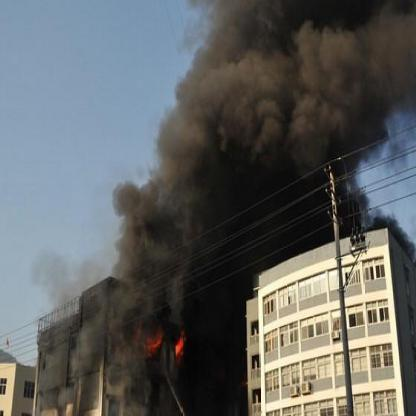smoke: (164, 5, 414, 158), (113, 160, 202, 274), (108, 280, 190, 403)
